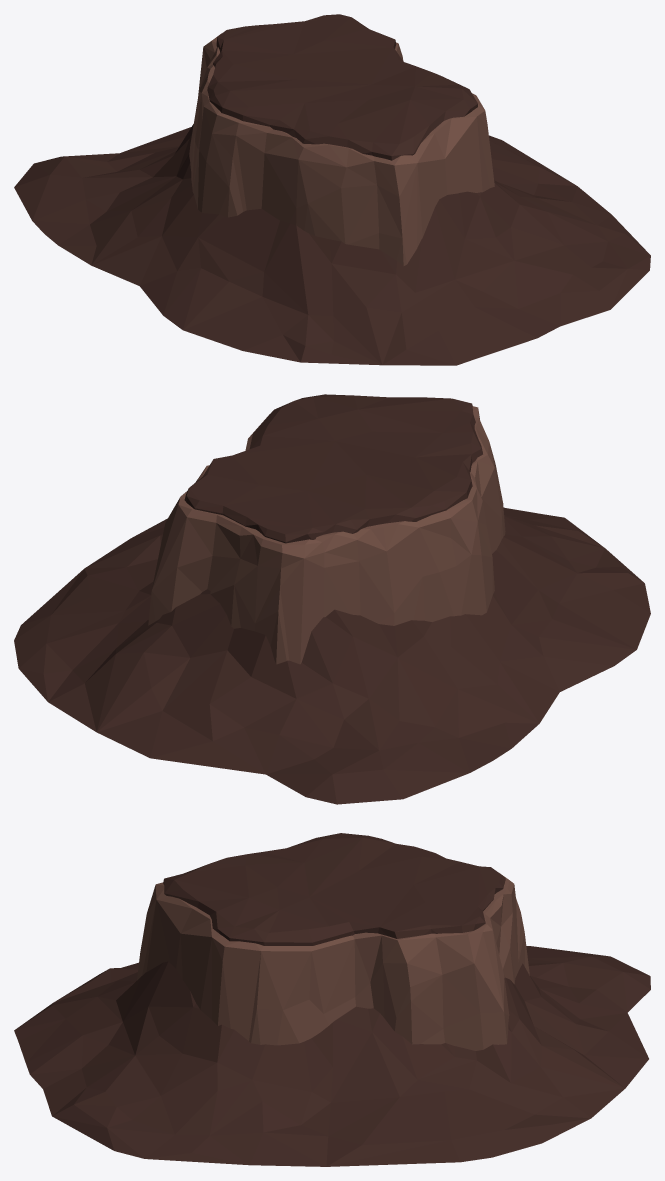
Rendered from Brown_crag_003.fbx.
3 renders of one model, top to bottom at view 1: azimuth 30°, elevation 25°; view 2: azimuth 150°, elevation 25°; view 3: azimuth 270°, elevation 25°, orthographic. The views are drawn at different scales.
Parts seen in each view (by area): view 1: Brown_crag_003; view 2: Brown_crag_003; view 3: Brown_crag_003.
Part boxes in pixels (x1,y1,x2,y2): Brown_crag_003: (14,14,650,365); Brown_crag_003: (14,394,650,804); Brown_crag_003: (14,833,650,1166).
Bounding box in the file's own units: 5281 × 6358 × 1839.
